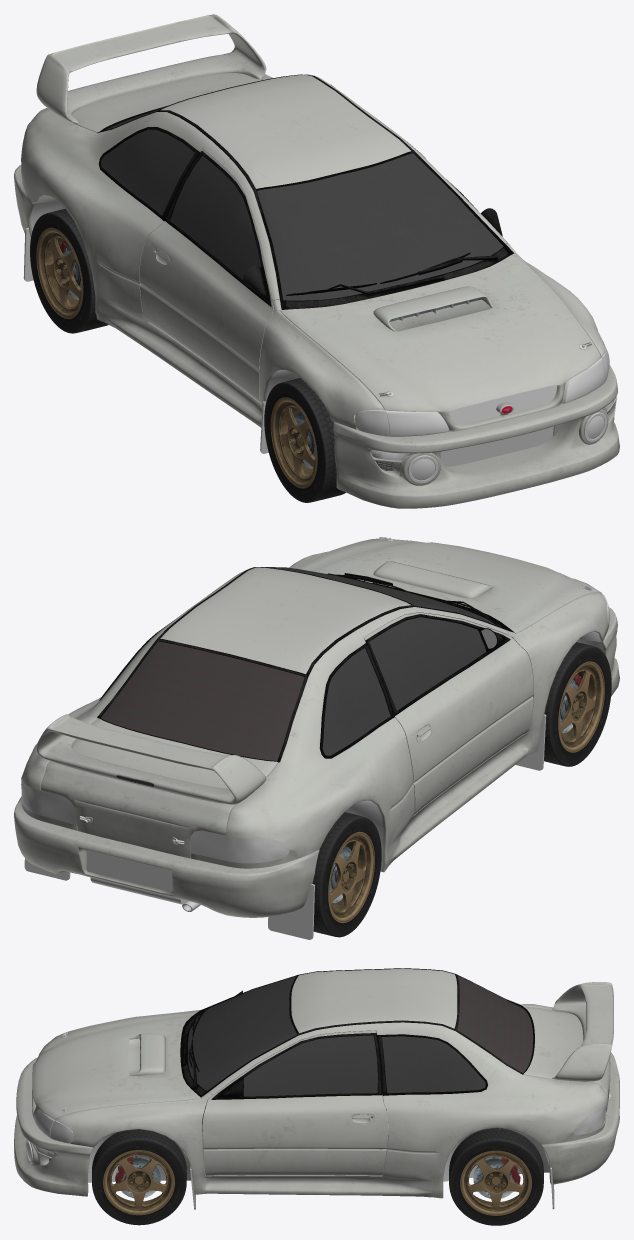
File: carRally.fbx
3 renders of one model, top to bottom at view 1: azimuth 30°, elevation 25°; view 2: azimuth 150°, elevation 25°; view 3: azimuth 270°, elevation 25°, orthographic. The views are drawn at different scales.
Visible parts, largest first — view 1: Body, glass, Right Doors, Wheel.005, Wheel.004, Car, Plane.001, grill, headlight.001, headlight, blinker.001, fog light; view 2: Body, glass, Right Doors, Wheel.004, Wheel.005, Car, tail light, licence plate, tail light.001, splasher.002, Exhaust, splasher.003; view 3: Body, Left Doors, glass, Wheel.002, Wheel.001, Car, tail light.001, Brake Disc.001, blinker.002, Brake Disc.
Part boxes in pixels (x1=…): Body: x1=14, y1=14, x2=619, y2=508; glass: x1=101, y1=108, x2=503, y2=300; Right Doors: x1=139, y1=148, x2=273, y2=404; Wheel.005: x1=264, y1=378, x2=345, y2=502; Wheel.004: x1=30, y1=208, x2=108, y2=333; Car: x1=30, y1=74, x2=513, y2=422; Plane.001: x1=440, y1=426, x2=553, y2=466; grill: x1=449, y1=385, x2=557, y2=424; headlight.001: x1=386, y1=410, x2=448, y2=436; headlight: x1=562, y1=358, x2=604, y2=403; blinker.001: x1=354, y1=409, x2=389, y2=436; fog light: x1=407, y1=455, x2=438, y2=483; Body: x1=14, y1=538, x2=619, y2=917; glass: x1=101, y1=567, x2=496, y2=760; Right Doors: x1=364, y1=612, x2=533, y2=814; Wheel.004: x1=312, y1=812, x2=381, y2=937; Wheel.005: x1=544, y1=642, x2=611, y2=766; Car: x1=97, y1=567, x2=603, y2=871; tail light: x1=190, y1=830, x2=289, y2=863; licence plate: x1=86, y1=850, x2=172, y2=891; tail light.001: x1=21, y1=778, x2=76, y2=825; splasher.002: x1=268, y1=884, x2=314, y2=939; Exhaust: x1=90, y1=877, x2=200, y2=911; splasher.003: x1=515, y1=714, x2=546, y2=770; Body: x1=14, y1=968, x2=619, y2=1198; Left Doors: x1=202, y1=1030, x2=388, y2=1175; glass: x1=188, y1=975, x2=533, y2=1093; Wheel.002: x1=449, y1=1128, x2=543, y2=1225; Wheel.001: x1=92, y1=1129, x2=186, y2=1225; Car: x1=88, y1=968, x2=549, y2=1182; tail light.001: x1=573, y1=1103, x2=606, y2=1135; Brake Disc.001: x1=473, y1=1158, x2=514, y2=1198; blinker.002: x1=50, y1=1120, x2=73, y2=1143; Brake Disc: x1=116, y1=1157, x2=160, y2=1198.
Size of the model in its own units: 244 by 182 by 561.
